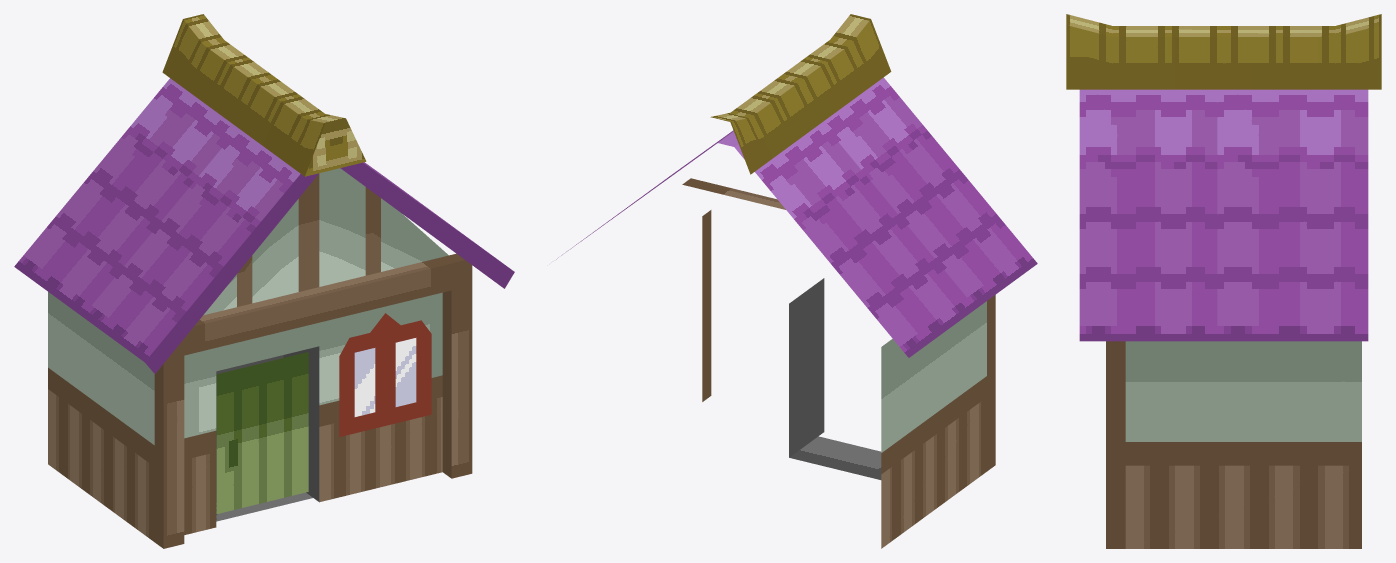
Rendered from hgss-mauville-batiment-56-complet.glb.
The picture shows the model from 3 angles, left to right: view 1: azimuth 30°, elevation 25°; view 2: azimuth 150°, elevation 25°; view 3: azimuth 270°, elevation 25°; orthographic projection. The views are drawn at different scales.
Size of the model in its own units: 4.5 by 4.69 by 3.
Materials: 4 (4 with a texture image).
